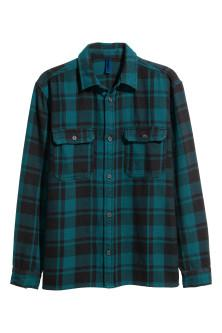teeshirt: (8, 41, 215, 297)
